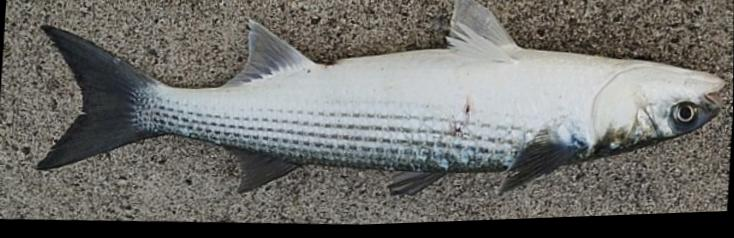fish: (33, 0, 732, 198)
